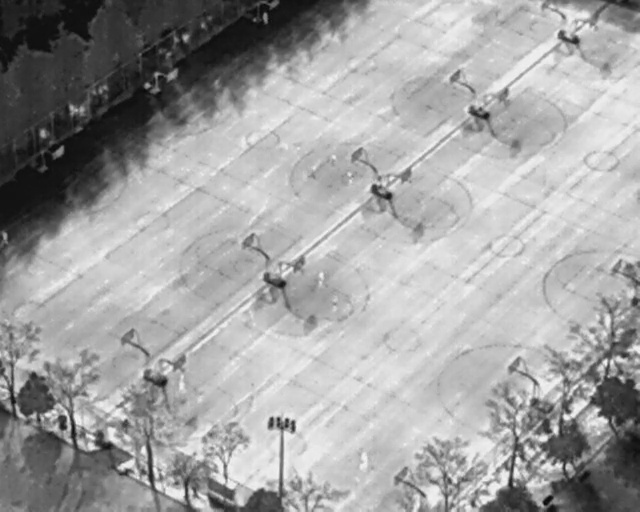Person: (359, 450, 368, 471), (1, 228, 10, 248), (316, 271, 326, 289), (177, 372, 186, 391), (330, 294, 338, 312), (329, 152, 336, 167), (345, 171, 352, 186)
